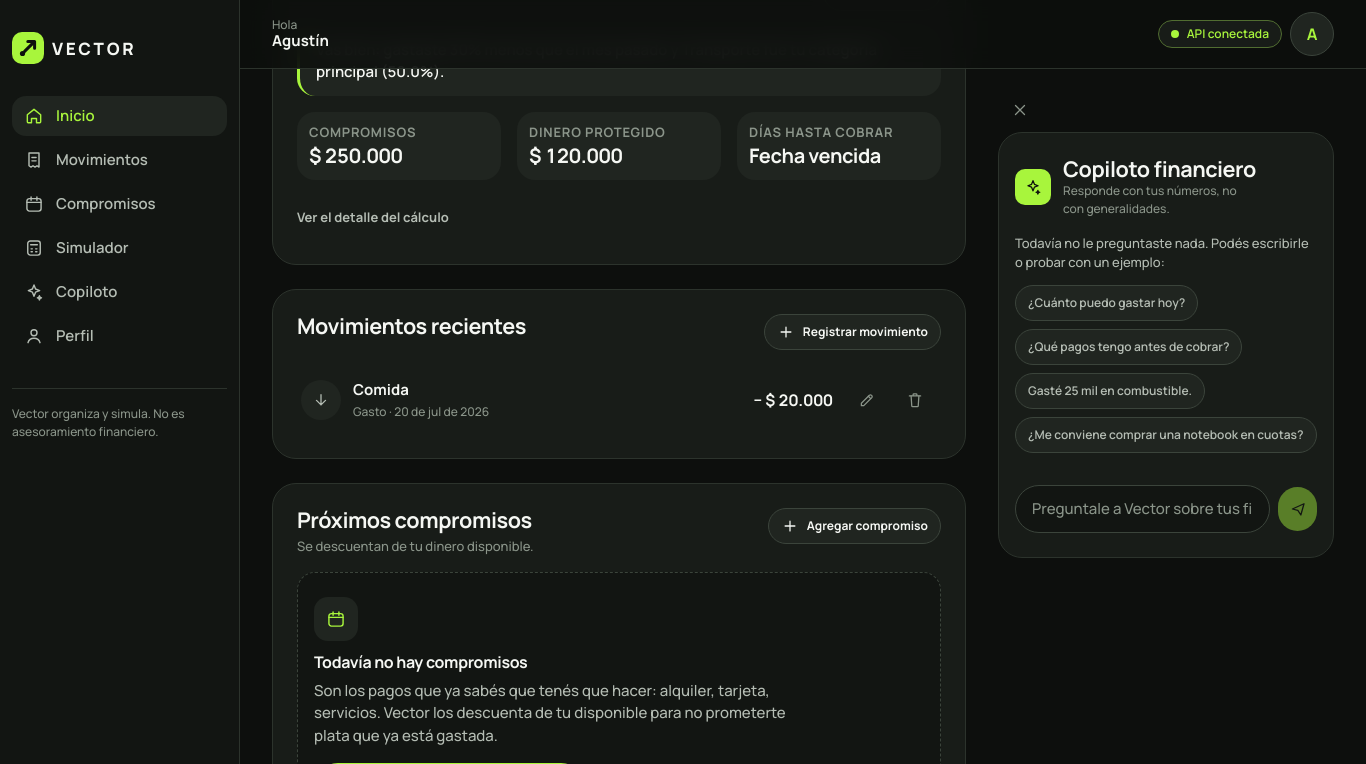
Test: DashboardPage › eliminar un movimiento pide confirmación
(page scrolled)
Step 1. Click the button named "Eliminar movimiento de comida" → (915, 400), box [893,378,937,422]
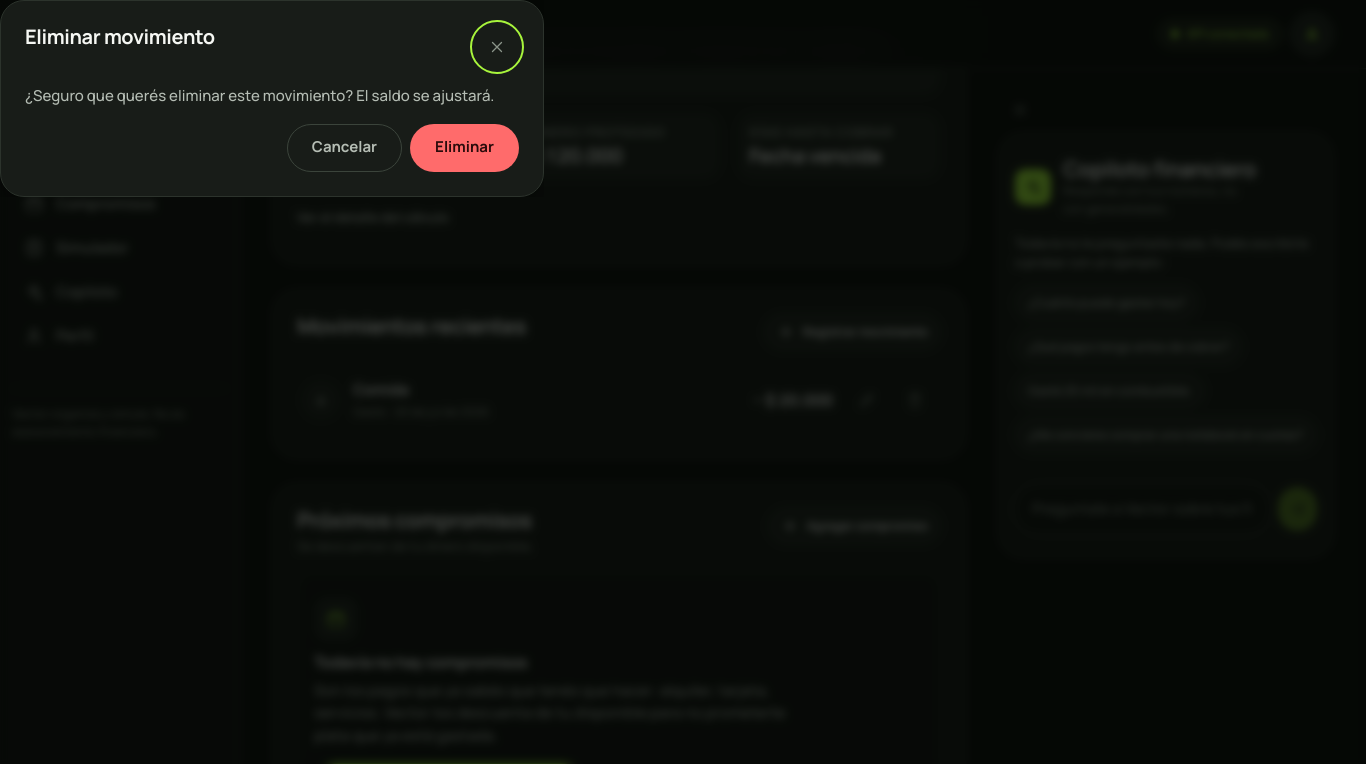
Check: the heading "Eliminar movimiento" is shown, box [25,25,215,48]
Check: the text "¿Seguro que querés eliminar este movimiento" is shown, box [25,85,494,106]
